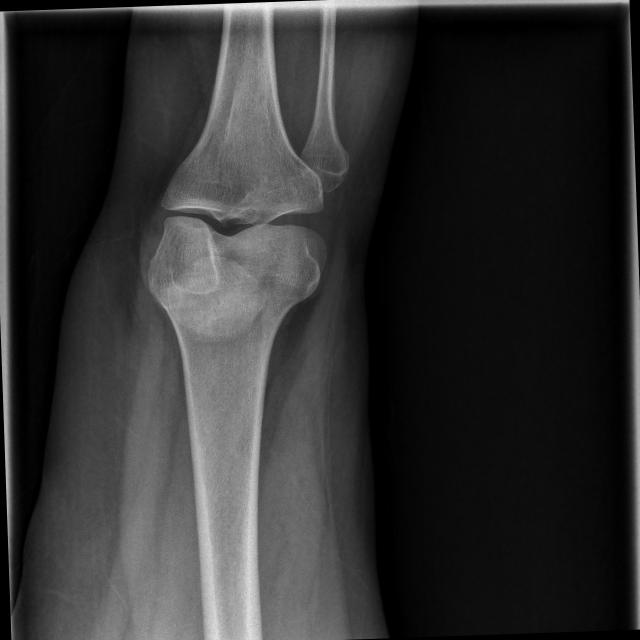Knee: (138, 159, 330, 301)
